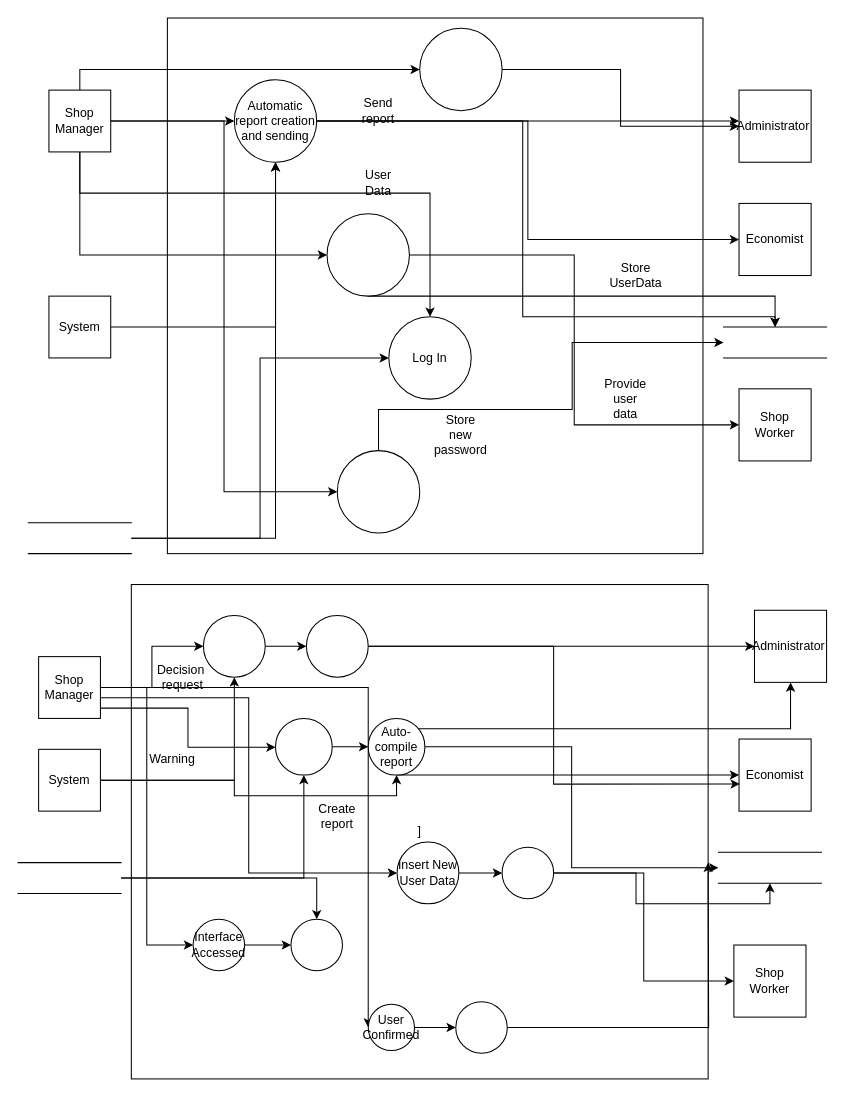
This 847x1097 diagram has some shape labels left out. The centre of each missing label's shape, as x and y in pixels:
"Add User into system" belongs at point (367, 254).
"Compile Request" belongs at point (233, 645).
"Logged In" belongs at point (316, 944).
"Password Change" belongs at point (378, 491).
"Password Changed" belongs at point (481, 1027).
"Provide User with data" belongs at point (527, 872).
"Request report data" belongs at point (303, 746).
"Request Supplies" belongs at point (460, 69).
"Send request" belongs at point (336, 645).
